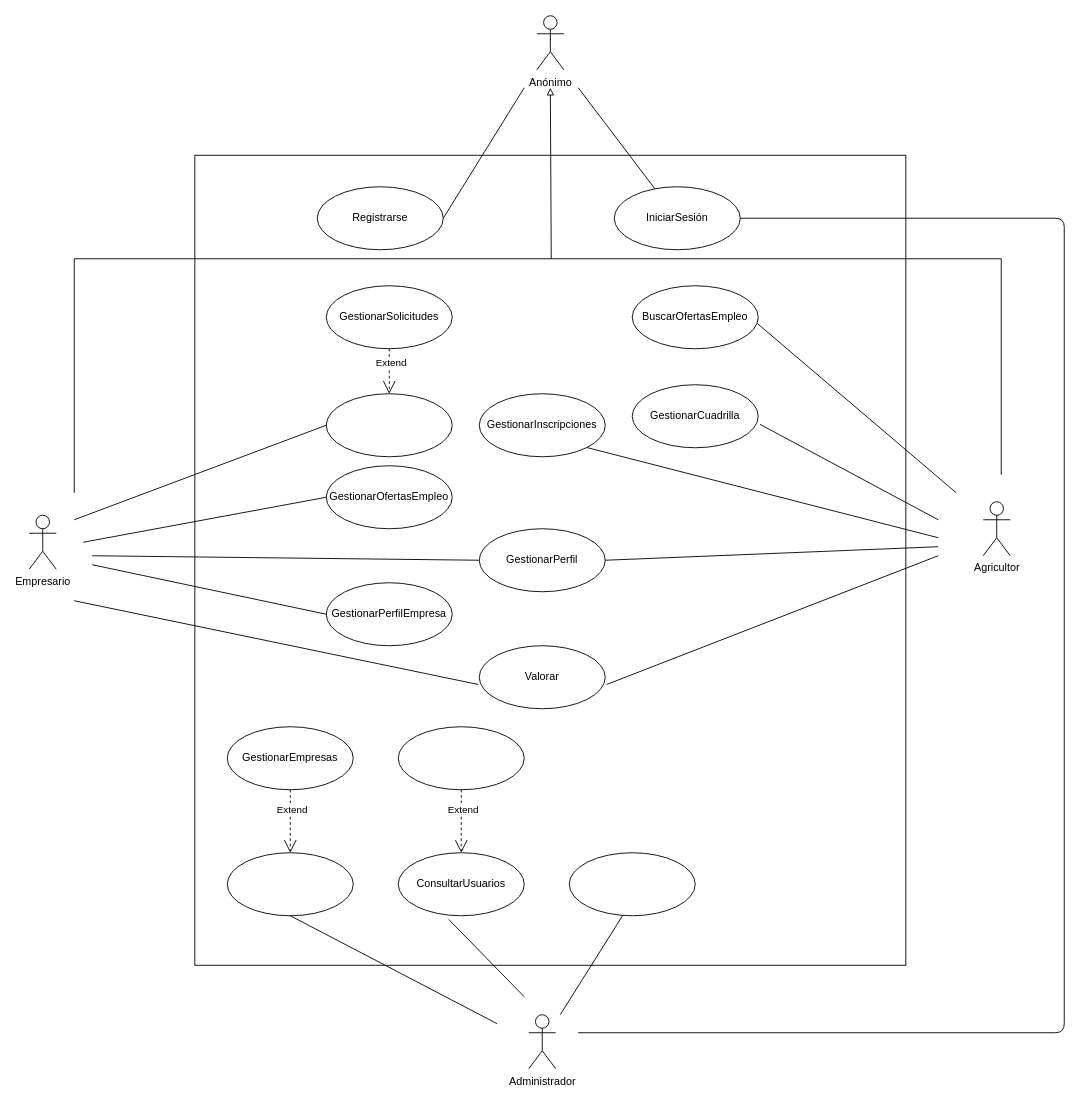
This 1081x1103 diagram has some shape labels left out. Each missing label, with the centre of its shape:
ConsultarEmpresas: point 289,884
ConsultarSolicitudes: point 388,425
GestionarUsuarios: point 460,758
GestionarValoración: point 631,884
